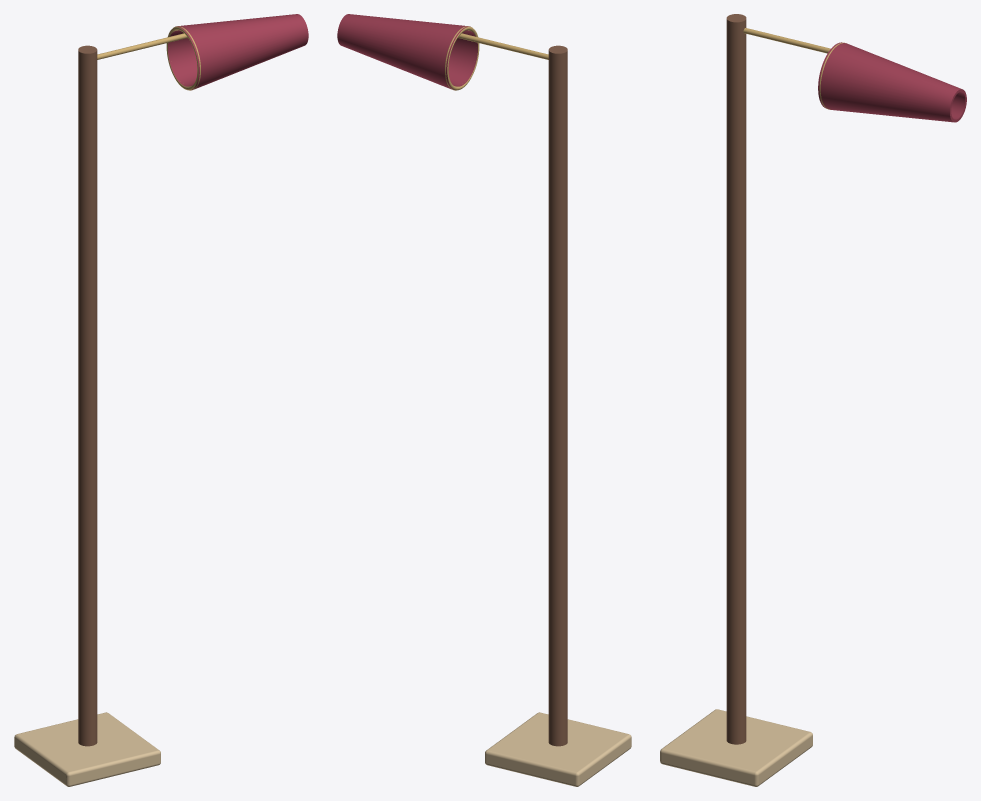
The model's file is griffin-airmail-roost-and-posthouse-windsock-mast-e5a531cb__30533.glb.
3 renders of one model, left to right at view 1: azimuth 30°, elevation 25°; view 2: azimuth 150°, elevation 25°; view 3: azimuth 330°, elevation 25°, orthographic. The views are drawn at different scales.
Visible parts, largest first — view 1: windsock-mast; view 2: windsock-mast; view 3: windsock-mast.
Part boxes in pixels (x1,y1,x2,y2): windsock-mast: (14,14,308,786); windsock-mast: (337,14,631,786); windsock-mast: (660,14,966,786).
Size of the model in its own units: 1.1 by 2.86 by 0.4.
